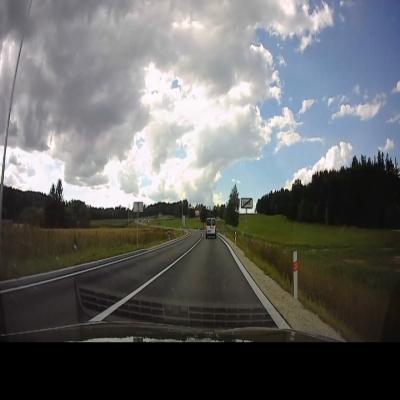clear-road: (133, 236, 260, 304), (76, 232, 200, 296)
